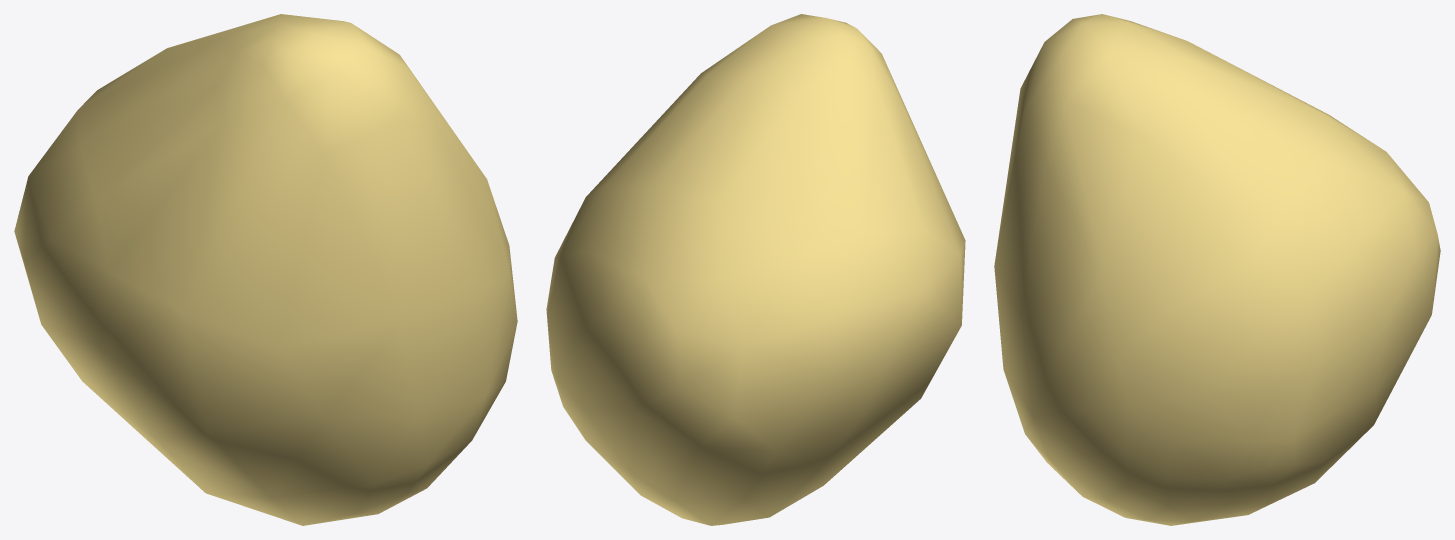
File: fma273254_mm2715.glb
3 views of the same model, side by side, from view 1: azimuth 30°, elevation 25°; view 2: azimuth 150°, elevation 25°; view 3: azimuth 270°, elevation 25° (orthographic). The views are drawn at different scales.
Visible parts, largest first — view 1: FMA273254_MM2715; view 2: FMA273254_MM2715; view 3: FMA273254_MM2715.
Part boxes in pixels (x1,y1,x2,y2): FMA273254_MM2715: (14, 14, 517, 525); FMA273254_MM2715: (546, 14, 965, 525); FMA273254_MM2715: (994, 14, 1440, 525).
Size of the model in its own units: 0.00586 by 0.00708 by 0.00615.
